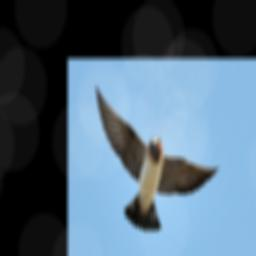Swallow: (94, 83, 219, 232)
